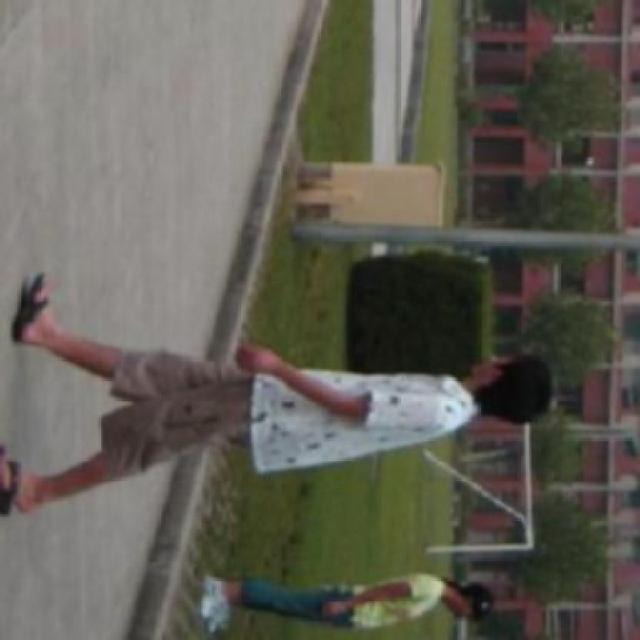Person: (0, 270, 560, 524), (190, 570, 498, 638)
